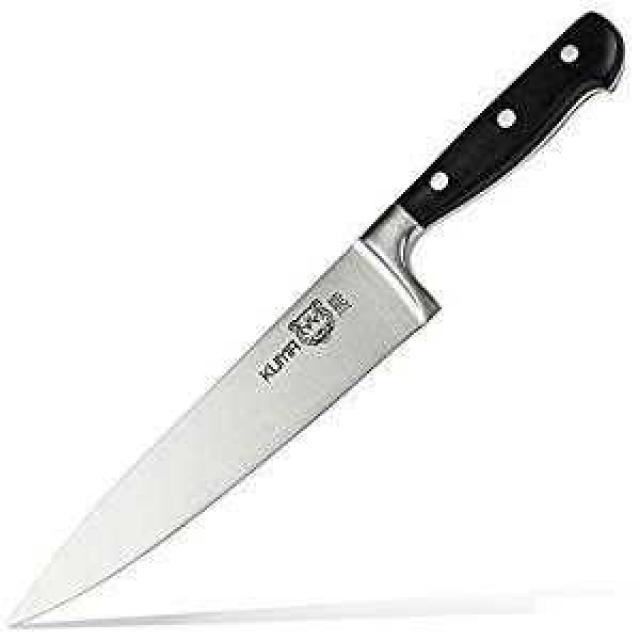Knife: (0, 0, 640, 634)
